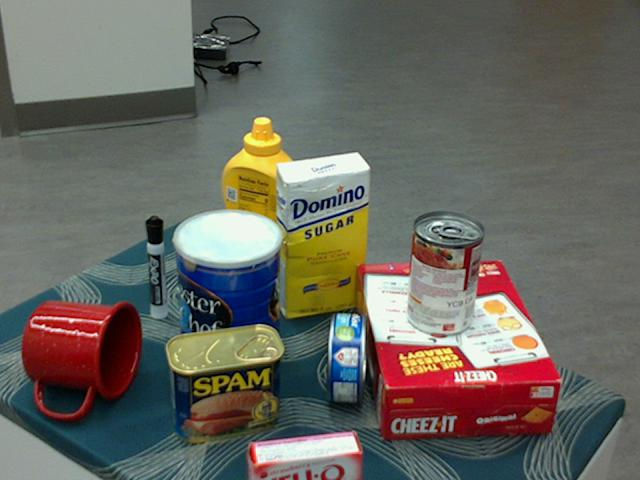cracker_box: (352, 262, 561, 436)
gelatin_box: (244, 431, 359, 479)
large_marker: (145, 215, 165, 318)
master_chef_can: (174, 210, 282, 384)
mug: (21, 299, 141, 418)
mustard_bottle: (221, 117, 302, 287)
potted_meat_can: (165, 324, 283, 442)
sugar_box: (275, 154, 370, 320)
tomato_soup_can: (405, 212, 484, 337)
tuna_fish_can: (328, 313, 367, 403)
